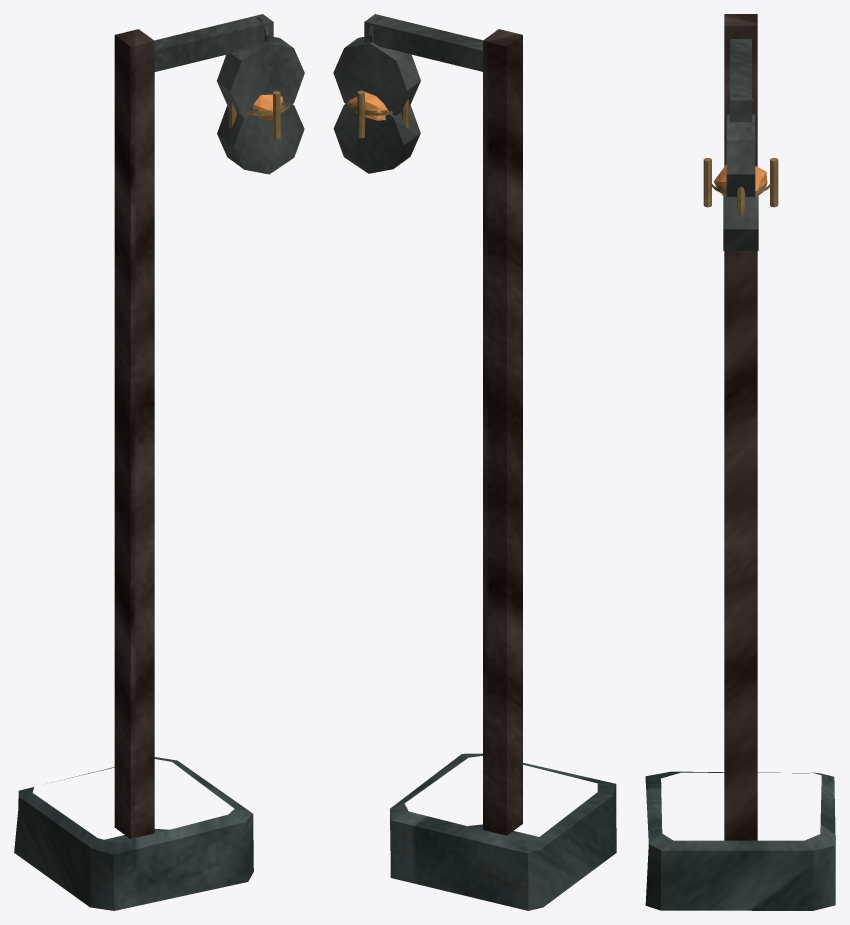
The model's file is 0701_lantern_post_01.glb.
3 renders of one model, left to right at view 1: azimuth 30°, elevation 25°; view 2: azimuth 150°, elevation 25°; view 3: azimuth 270°, elevation 25°, orthographic. The views are drawn at different scales.
Parts seen in each view (by area): view 1: wood_dark, stone_dark, iron, brass; view 2: wood_dark, stone_dark, iron, brass; view 3: wood_dark, stone_dark, iron, brass, amber.
Part boxes in pixels (<box>): wood_dark: <box>114,29,154,838</box>; stone_dark: <box>14,757,253,910</box>; iron: <box>154,14,304,174</box>; brass: <box>229,91,290,138</box>; wood_dark: <box>483,29,522,835</box>; stone_dark: <box>390,753,616,910</box>; iron: <box>333,14,482,173</box>; brass: <box>347,90,408,138</box>; wood_dark: <box>724,14,757,840</box>; stone_dark: <box>645,771,835,910</box>; iron: <box>723,39,758,250</box>; brass: <box>703,158,778,216</box>; amber: <box>713,164,766,195</box>.
Bounding box in the file's own units: 1.31 × 4.28 × 0.8605.
5 materials, 5 textured.
